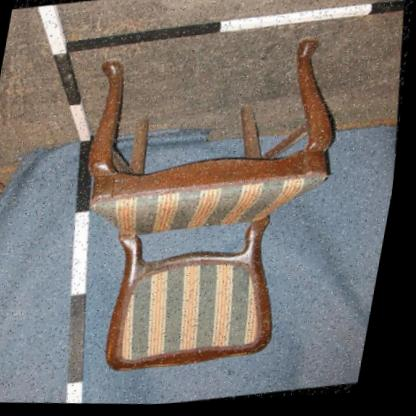Chair: (36, 14, 392, 410)
